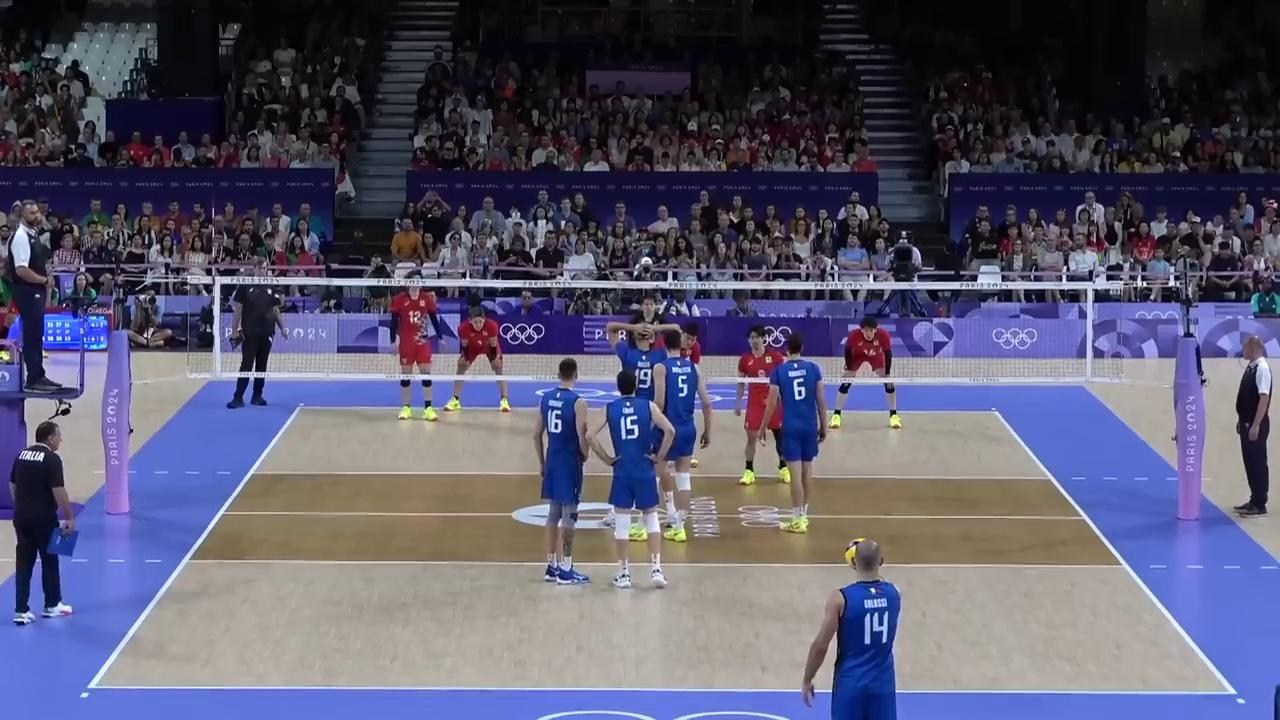ball: (846, 537, 858, 567)
